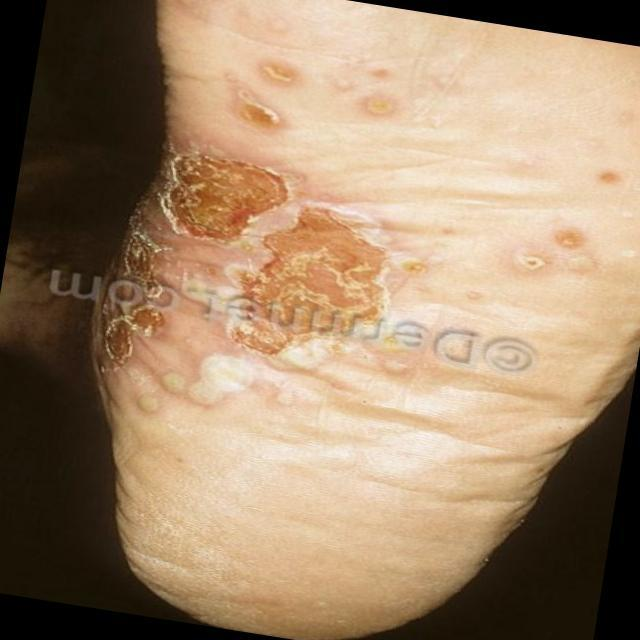Eczema: (80, 149, 407, 400), (478, 159, 629, 277), (241, 59, 413, 129)
